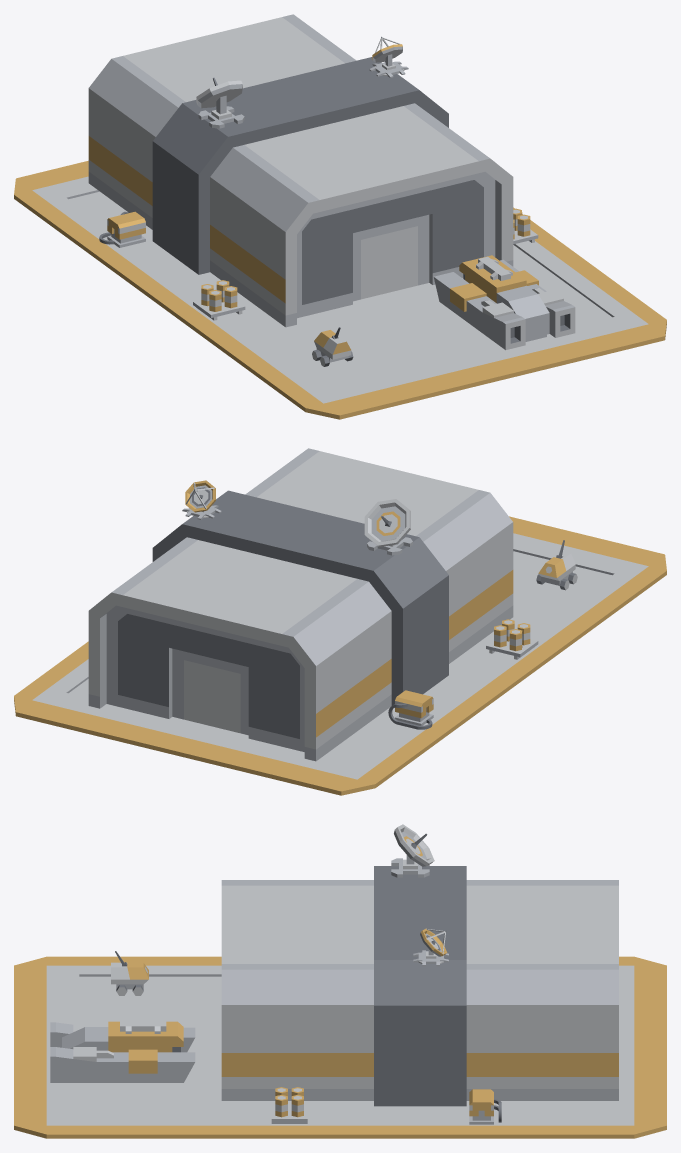
3 views of the same model, one above another, from view 1: azimuth 30°, elevation 25°; view 2: azimuth 150°, elevation 25°; view 3: azimuth 270°, elevation 25° (orthographic).
Visible parts, largest first — view 1: Hangar, Courier, Dish; view 2: Hangar, Dish; view 3: Hangar, Courier, Dish.
Part boxes in pixels (bbox=[...]): Hangar: bbox=[14, 14, 666, 419]; Courier: bbox=[434, 255, 575, 350]; Dish: bbox=[196, 77, 244, 128]; Hangar: bbox=[14, 448, 666, 795]; Dish: bbox=[364, 499, 412, 555]; Hangar: bbox=[14, 866, 666, 1138]; Courier: bbox=[50, 1021, 195, 1082]; Dish: bbox=[391, 824, 434, 877].
Size of the model in its own units: 11.6 by 5.51 by 18.
